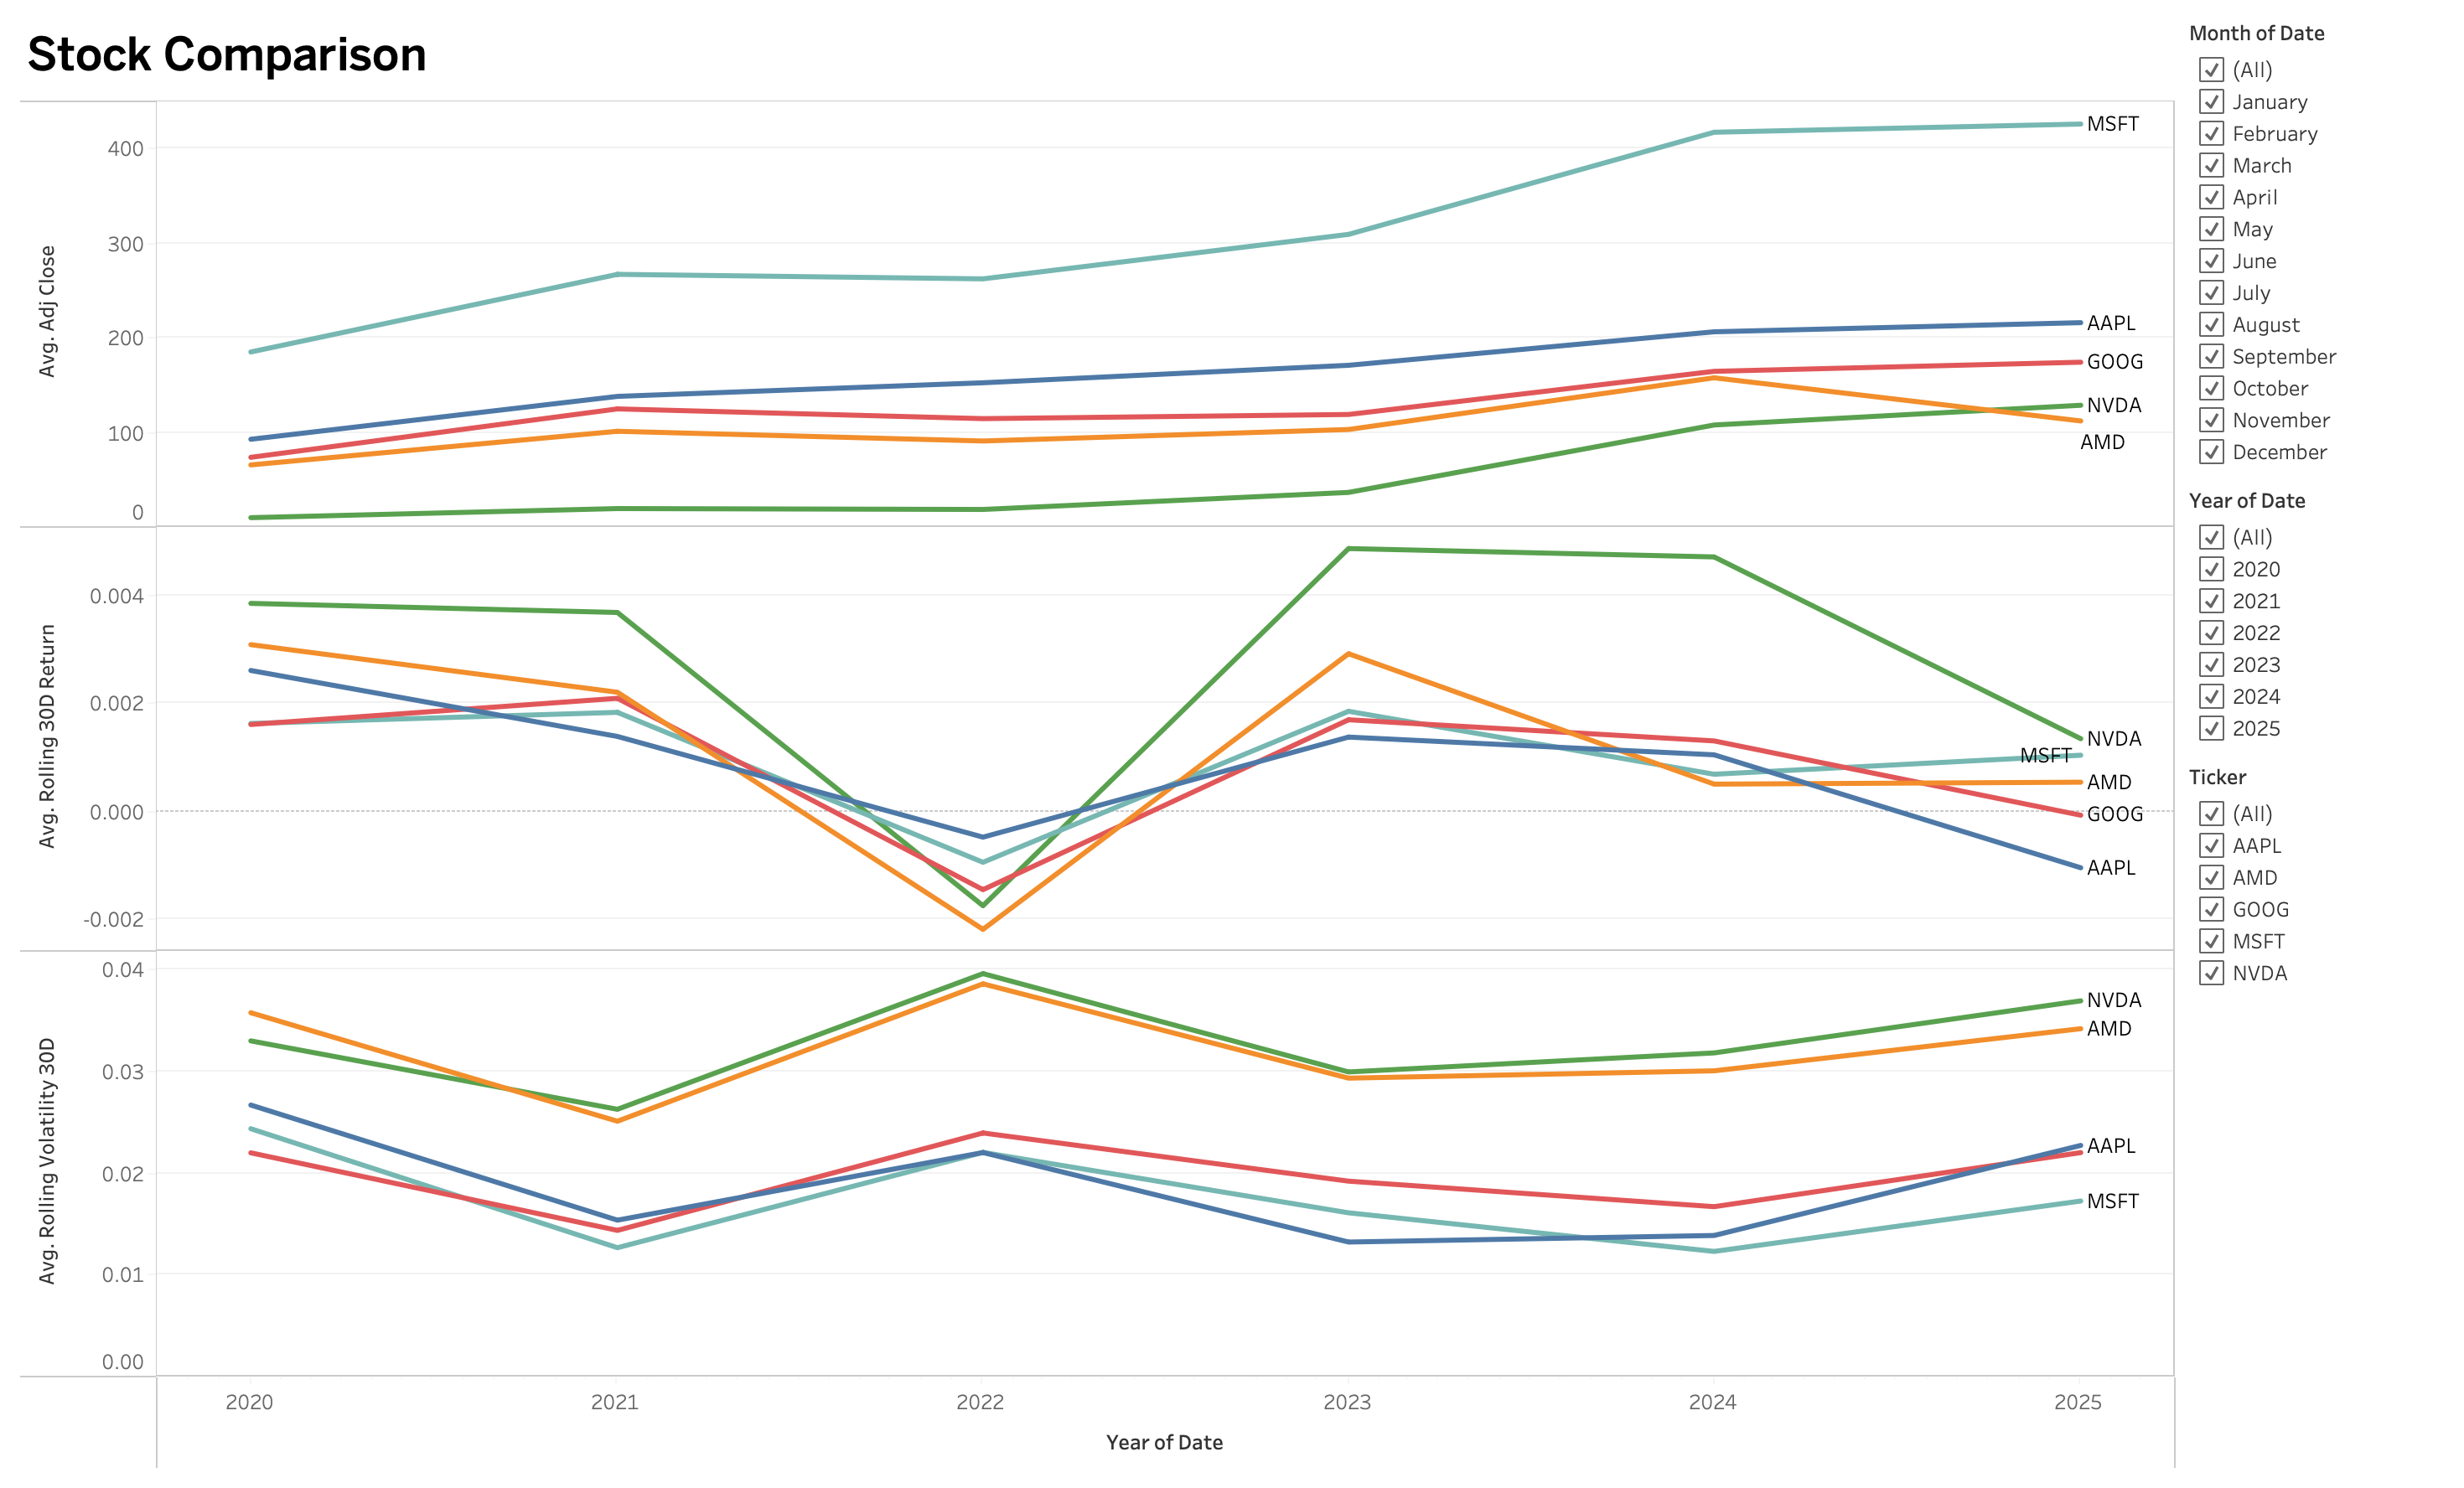

What the dashboard file says about the page in this screenshot:
{"tool":"tableau","page":{"name":"Stock Comparison ","canvas":[1000,1000],"units":"permille","ordinal":1},"visuals":[{"type":"worksheet","title":"Sheet 8","mark":"Automatic","rows":["ADJ_CLOSE","ROLLING_30D_RETURN","ROLLING_VOLATILITY_30D"],"cols":["DATE"],"box":[6.3,10,860.5,980]},{"type":"filter","title":"Sheet 8","param":"[federated.0gdd9dl07vpnvy19lf57m1o9lfrr].[mn:DATE:ok]","box":[866.9,10,126.8,349.2]},{"type":"filter","title":"Sheet 8","param":"[federated.0gdd9dl07vpnvy19lf57m1o9lfrr].[yr:DATE:ok]","box":[866.9,359.2,126.8,206.5]},{"type":"filter","title":"Sheet 8","param":"[federated.0gdd9dl07vpnvy19lf57m1o9lfrr].[none:TICKER:nk]","box":[866.9,565.7,126.8,182.7]}]}

Visuals, with their boxes on the dashboard's canvas, which has no fixed pixel size, in thousandths of its width and height (x1, y1, x2, y2). These are canvas units, not pixel positions in the 2464x1488 screenshot, which may show the page scaled, cropped or inside an application window:
"Sheet 8" worksheet: box=[6, 10, 867, 990]
"Sheet 8" filter: box=[867, 10, 994, 359]
"Sheet 8" filter: box=[867, 359, 994, 566]
"Sheet 8" filter: box=[867, 566, 994, 748]
